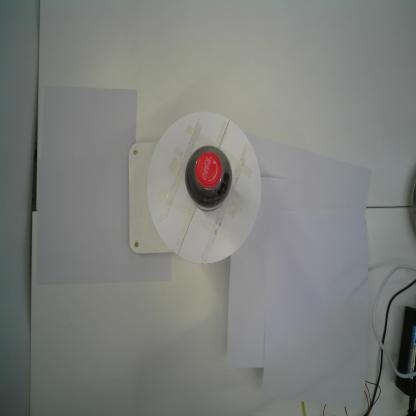Drink: (184, 143, 233, 214)
